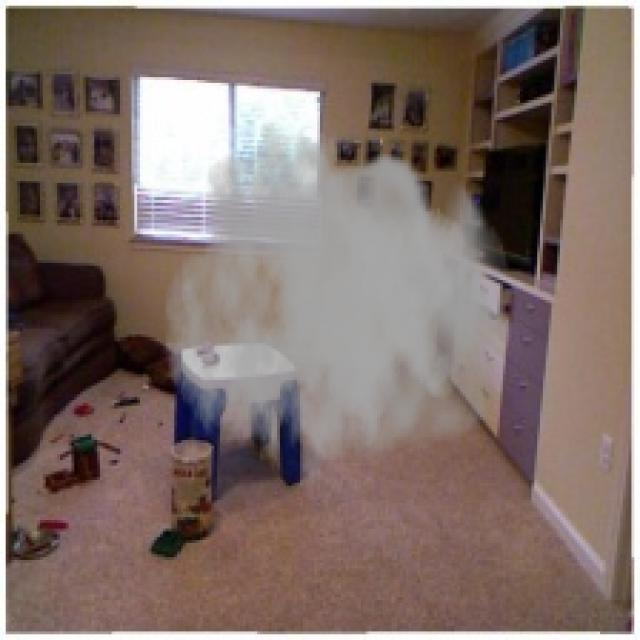Smoke: (163, 120, 512, 506)
